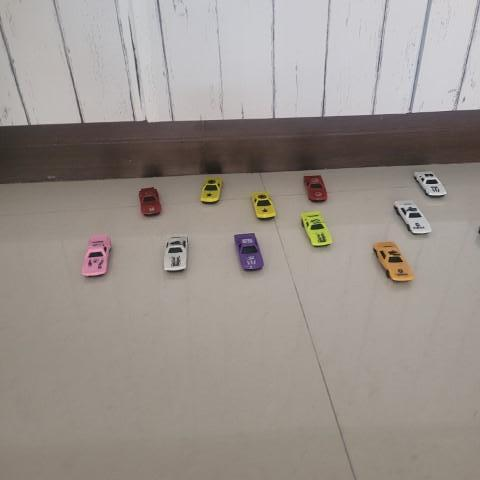car: (367, 234, 415, 285), (78, 232, 117, 280), (392, 193, 432, 239), (162, 231, 196, 276), (296, 210, 334, 249), (233, 231, 266, 274), (410, 166, 452, 199), (133, 180, 165, 218), (247, 187, 278, 220), (297, 174, 330, 203), (199, 175, 224, 206)
